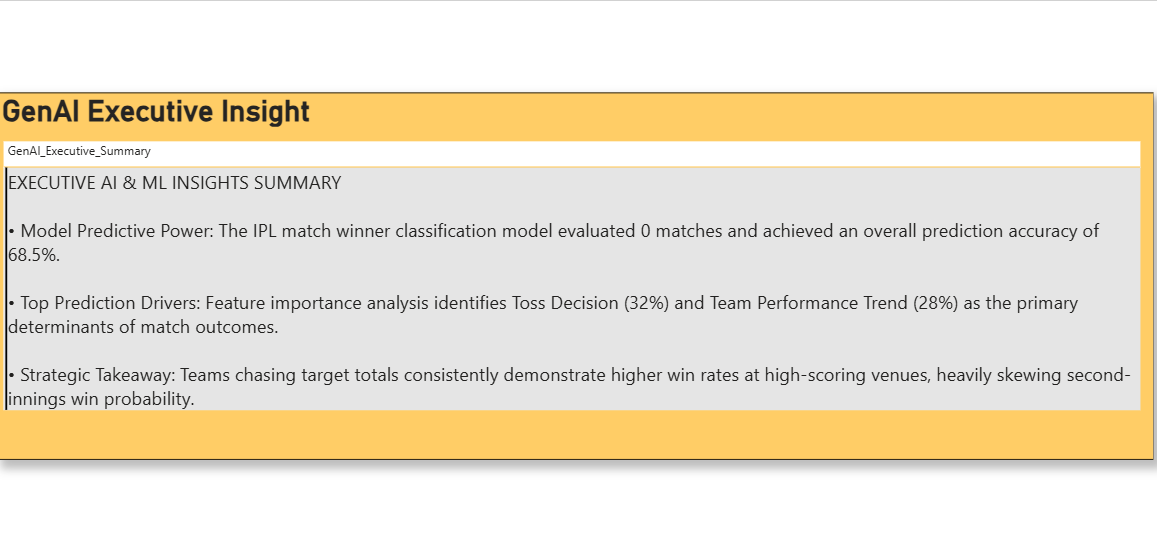

This screenshot's page, from the dashboard's own definition file:
{"tool":"powerbi","page":{"name":"Genai executive insight","canvas":[1280,720],"ordinal":4},"visuals":[{"type":"tableEx","title":"GenAI Executive Insight","fields":{"Values":["genai_output_df.GenAI_Executive_Summary"]},"box":[0,145.5,1270.7,403.4],"z":0}]}

Visuals, with their boxes on the page's 1280x720 design canvas (x1, y1, x2, y2). These are canvas units, not pixel positions in the 1157x548 screenshot, which may show the page scaled, cropped or inside an application window:
"GenAI Executive Insight" tableEx: <box>0,146,1271,549</box>
